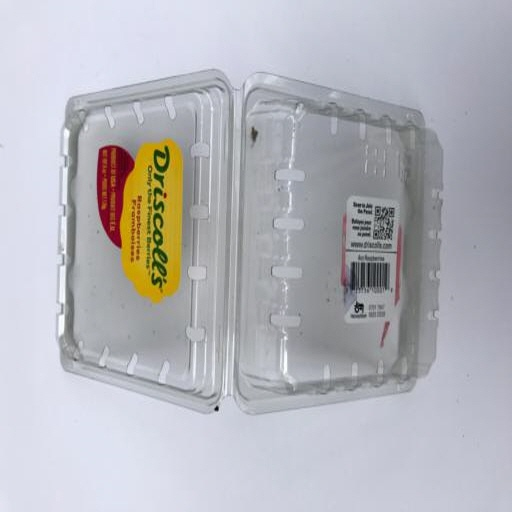Plastic_4: (58, 68, 439, 415)
